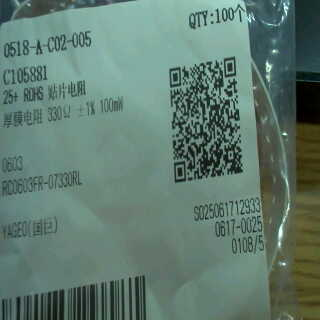330R: (42, 100, 75, 127)
